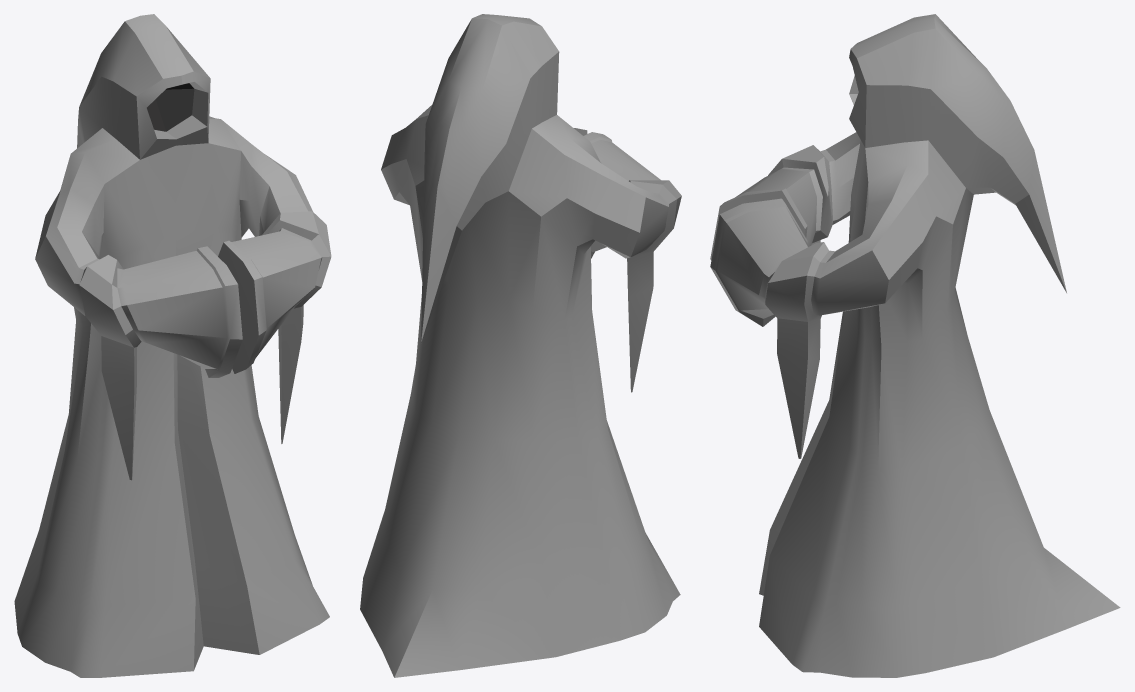
The model's file is Statue.glb.
3 renders of one model, left to right at view 1: azimuth 30°, elevation 25°; view 2: azimuth 150°, elevation 25°; view 3: azimuth 270°, elevation 25°, orthographic.
Parts seen in each view (by area): view 1: Statue; view 2: Statue; view 3: Statue.
Boxes of the visible parts, x1,y1,x2,y2 form: Statue: (14, 14, 331, 677); Statue: (360, 14, 681, 677); Statue: (710, 14, 1120, 677).
Bounding box in the file's own units: 1.3 × 2.65 × 1.67.
Materials: 1 (1 with a texture image).
